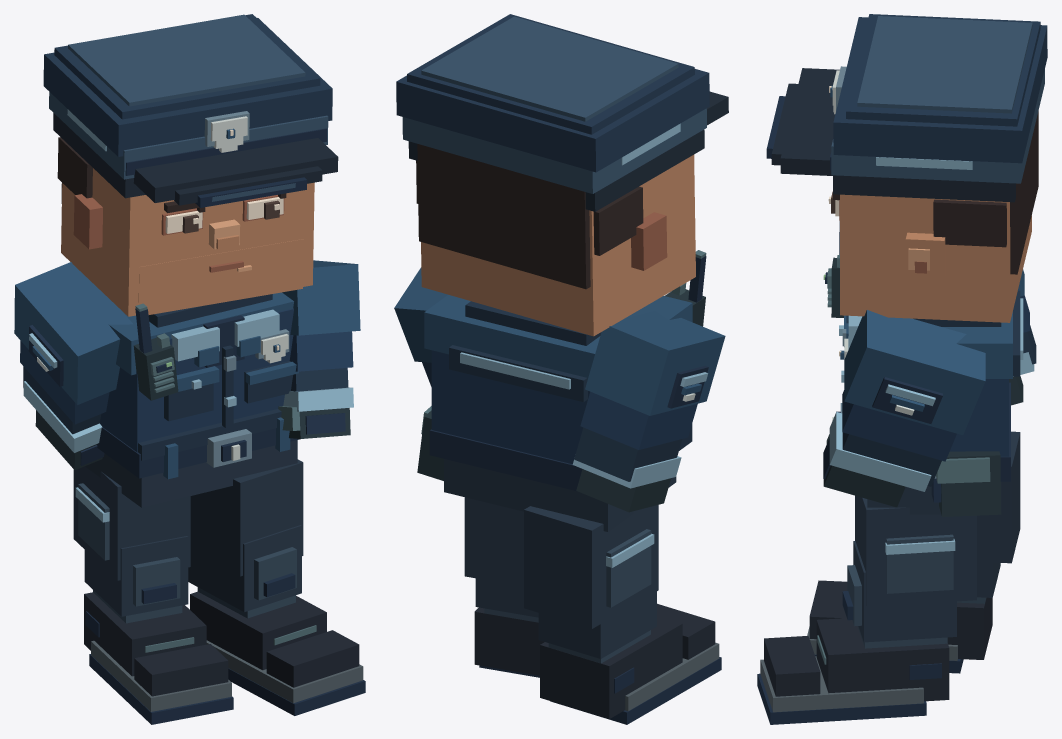
File: police.glb
3 renders of one model, left to right at view 1: azimuth 30°, elevation 25°; view 2: azimuth 150°, elevation 25°; view 3: azimuth 270°, elevation 25°, orthographic. The views are drawn at different scales.
Parts seen in each view (by area): view 1: Head · patrol cap and face, Torso · collared uniform and belt, Leg.R · patrol boot, Leg.L · patrol boot, Arm.L · shoulder patch, Arm.R · shoulder patch, Radio · shoulder handset; view 2: Head · patrol cap and face, Torso · collared uniform and belt, Leg.L · patrol boot, Arm.L · shoulder patch, Leg.R · patrol boot, Arm.R · shoulder patch, Radio · shoulder handset, Pouch · utility belt; view 3: Head · patrol cap and face, Leg.R · patrol boot, Arm.R · shoulder patch, Torso · collared uniform and belt, Leg.L · patrol boot, Pouch · utility belt, Arm.L · shoulder patch, Radio · shoulder handset.
Boxes of the visible parts, box(x1,y1,x2,y2) form: Head · patrol cap and face: box(43, 14, 338, 316); Torso · collared uniform and belt: box(85, 292, 300, 507); Leg.R · patrol boot: box(188, 459, 365, 715); Leg.L · patrol boot: box(73, 466, 233, 724); Arm.L · shoulder patch: box(14, 262, 132, 470); Arm.R · shoulder patch: box(278, 260, 360, 438); Radio · shoulder handset: box(133, 303, 178, 400); Head · patrol cap and face: box(396, 14, 728, 336); Torso · collared uniform and belt: box(424, 295, 692, 531); Leg.L · patrol boot: box(524, 505, 721, 724); Arm.L · shoulder patch: box(572, 311, 725, 512); Leg.R · patrol boot: box(464, 497, 544, 677); Arm.R · shoulder patch: box(394, 267, 447, 386); Radio · shoulder handset: box(665, 250, 706, 326); Pouch · utility belt: box(417, 406, 443, 480); Head · patrol cap and face: box(766, 14, 1047, 322); Leg.R · patrol boot: box(757, 495, 976, 724); Arm.R · shoulder patch: box(823, 310, 985, 507); Torso · collared uniform and belt: box(832, 290, 1023, 514); Leg.L · patrol boot: box(807, 431, 1020, 673); Pouch · utility belt: box(931, 451, 1001, 516); Arm.L · shoulder patch: box(1009, 269, 1036, 405); Radio · shoulder handset: box(823, 221, 843, 317).
Bounding box in the file's own units: 1.16 × 2.37 × 1.01.
